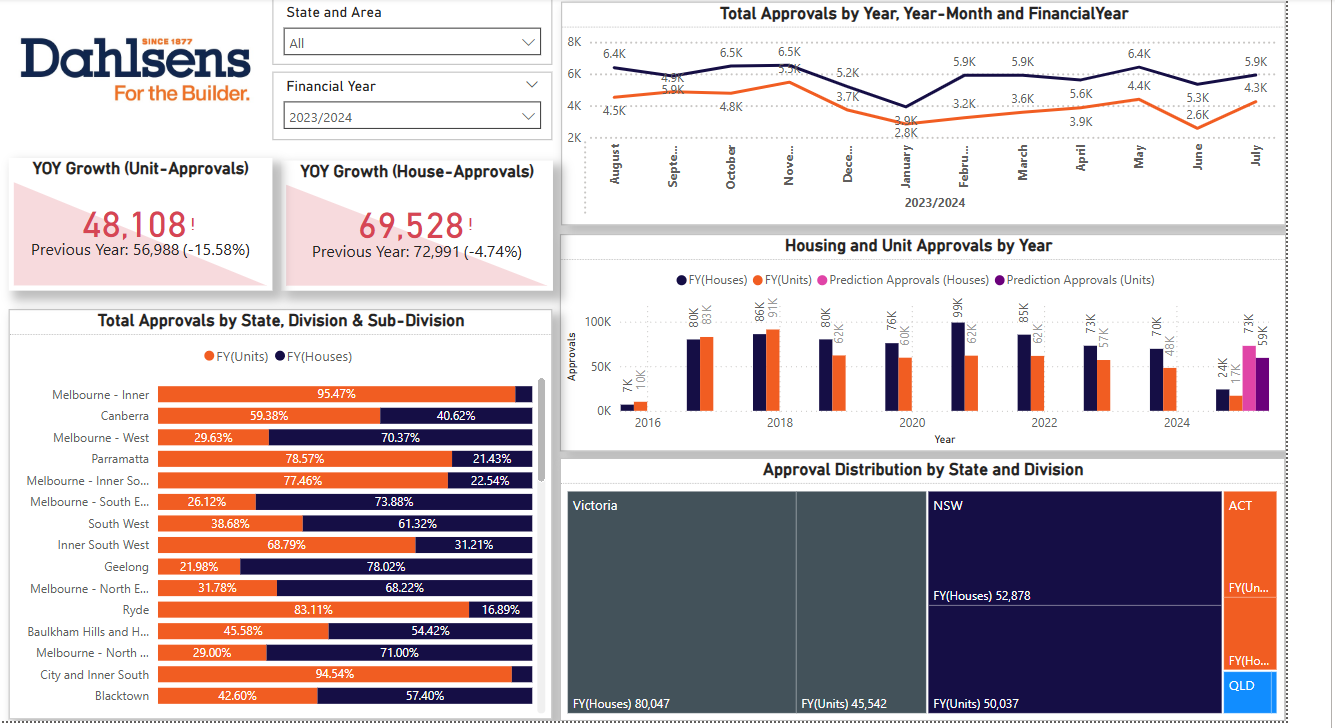

Layout of this report page (visuals, bound fields, positions):
{"tool":"powerbi","page":{"name":"Approval Trend Dashboard","canvas":[1280,720],"ordinal":0},"visuals":[{"type":"lineChart","title":"Total Approvals by Year, Year-Month and FinancialYear","fields":{"Y":["Sum(all_houses_variances_MY.ApprovalCount)","Sum(all_units_variances_MY.ApprovalCount)"],"Category":["DimCalendar.FinancialYear","DimCalendar.FinancialMonthName"]},"box":[558.1,3.5,720.9,222.1],"z":0},{"type":"slicer","fields":{"Values":["DimCalendar.FinancialYear","DimCalendar.FinancialQuarter","DimCalendar.Month"]},"box":[271.3,73.6,278.2,67.8],"z":1000},{"type":"clusteredColumnChart","title":"Housing  and Unit Approvals by Year","fields":{"Category":["DimCalendar.Year"],"Y":["Sum(all_houses_FY.TY)","Sum(all_units_FY.FY)","select2","select4"]},"box":[556.8,234.8,722.2,215.9],"z":2000},{"type":"hundredPercentStackedBarChart","title":"Total Approvals by State, Division & Sub-Division","fields":{"Category":["DimStateMapping.Stat_Divn1","DimStateMapping.Stat_sub_Divn1","DimStateMapping.State"],"Y":["Sum(all_units_FY.FY)","Sum(all_houses_FY.TY)"]},"box":[9.3,309.3,540.7,408.1],"z":3000},{"type":"kpi","title":"YOY Growth (House-Approvals)","fields":{"TrendLine":["DimCalendar.Year"],"Indicator":["Sum(all_houses_FY.TY)"],"Goal":["Sum(all_houses_FY.PY)"]},"box":[279.3,162.1,270.1,129.9],"z":4000},{"type":"treemap","title":"Approval Distribution by State and Division","fields":{"Values":["Sum(all_houses_FY.TY)","Sum(all_units_FY.FY)"],"Group":["DimStateMapping.State","DimStateMapping.Stat_Divn","DimStateMapping.Stat_sub_Divn","DimStateMapping.Local_Govt"]},"box":[557.4,457.2,721.5,261.8],"z":5000},{"type":"kpi","title":"YOY Growth (Unit-Approvals)","fields":{"Goal":["Sum(all_units_FY.LY)"],"TrendLine":["DimCalendar.Year"],"Indicator":["Sum(all_units_FY.FY)"]},"box":[9.2,159.8,262.1,132.2],"z":6000},{"type":"slicer","fields":{"Values":["DimStateMapping.State","DimStateMapping.AreaPartition"]},"box":[271.3,0,278.2,66.7],"z":7000},{"type":"image","box":[0,0,271.3,141.4],"z":8000}]}

Visuals, with their boxes on the page's 1280x720 design canvas (x1, y1, x2, y2). These are canvas units, not pixel positions in the 1335x728 screenshot, which may show the page scaled, cropped or inside an application window:
"Total Approvals by Year, Year-Month and FinancialYear" lineChart: [558,4,1279,226]
slicer - DimCalendar.FinancialYear x DimCalendar.FinancialQuarter: [271,74,550,141]
"Housing  and Unit Approvals by Year" clusteredColumnChart: [557,235,1279,451]
"Total Approvals by State, Division & Sub-Division" hundredPercentStackedBarChart: [9,309,550,717]
"YOY Growth (House-Approvals)" kpi: [279,162,549,292]
"Approval Distribution by State and Division" treemap: [557,457,1279,719]
"YOY Growth (Unit-Approvals)" kpi: [9,160,271,292]
slicer - DimStateMapping.State x DimStateMapping.AreaPartition: [271,0,550,67]
image: [0,0,271,141]
